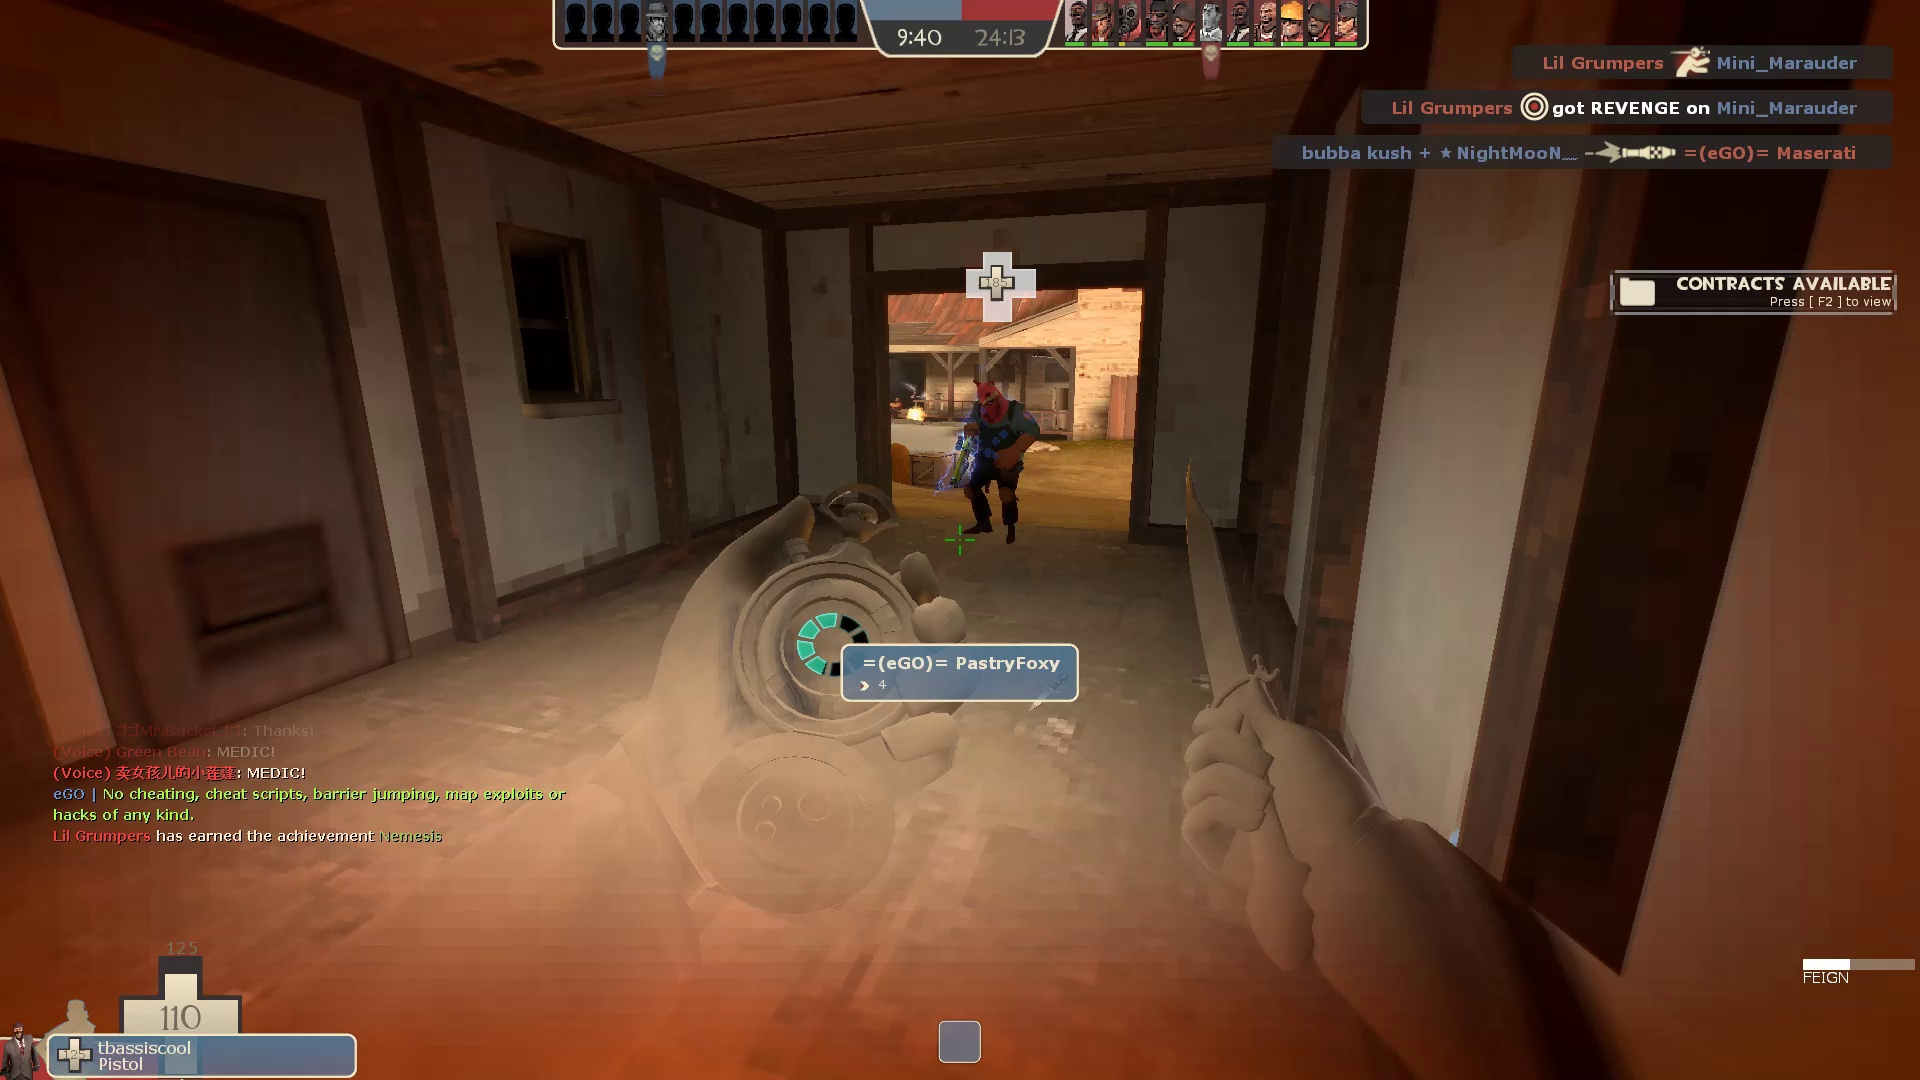blu_engineer: (939, 373, 1044, 546)
